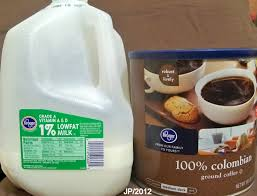milk: (6, 2, 134, 195)
